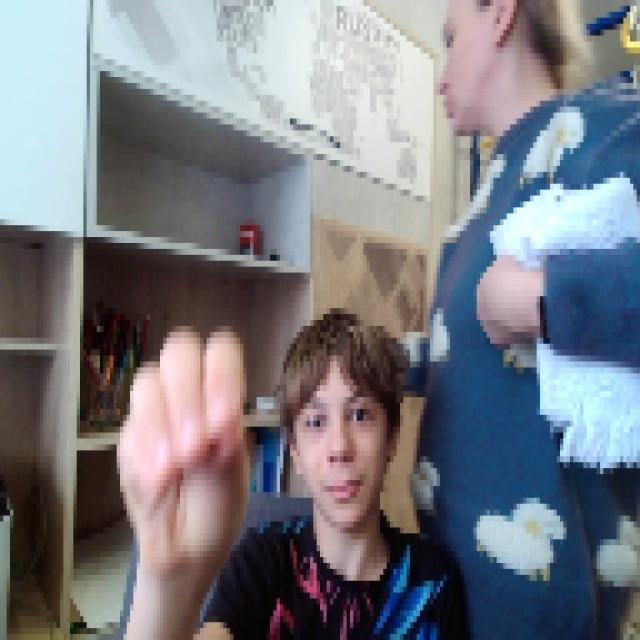left_click: (113, 320, 247, 569)
